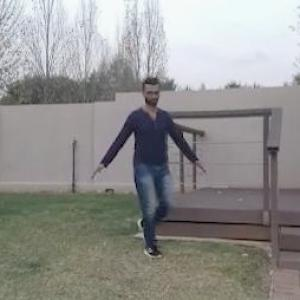land: (88, 74, 206, 276)
